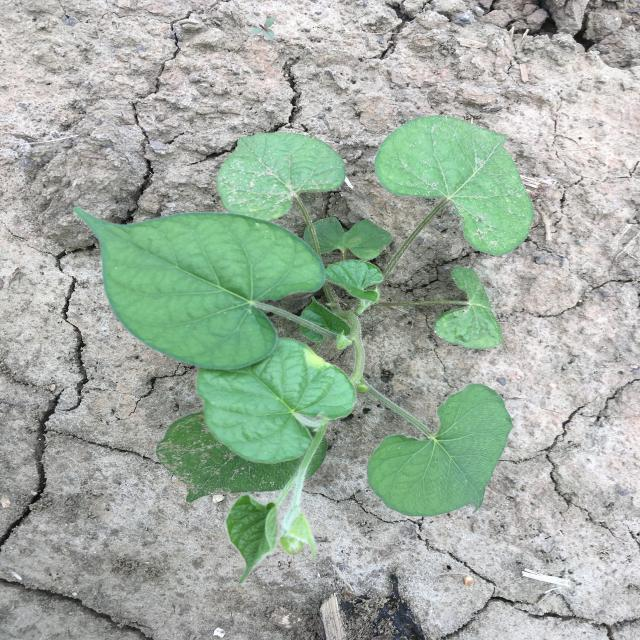MorningGlory: (73, 116, 535, 584)
